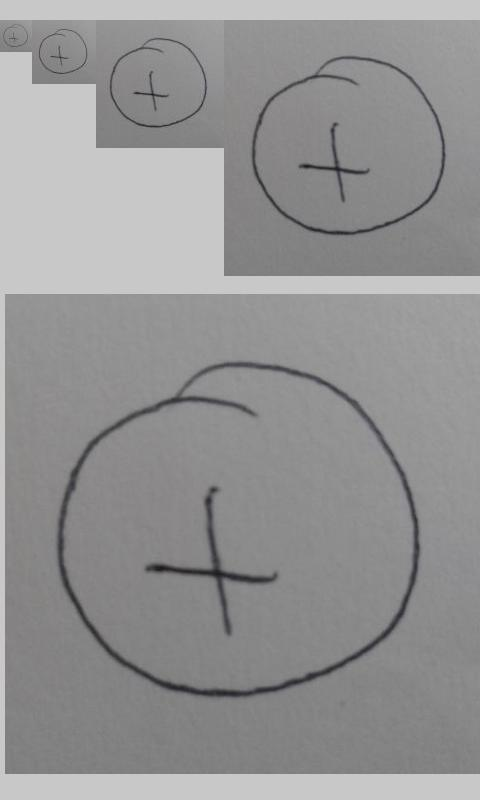button: (54, 359, 423, 702), (251, 55, 448, 237), (109, 37, 208, 128), (38, 28, 88, 75), (3, 23, 28, 48)
